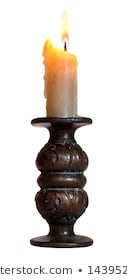Fire: (56, 8, 73, 45)
